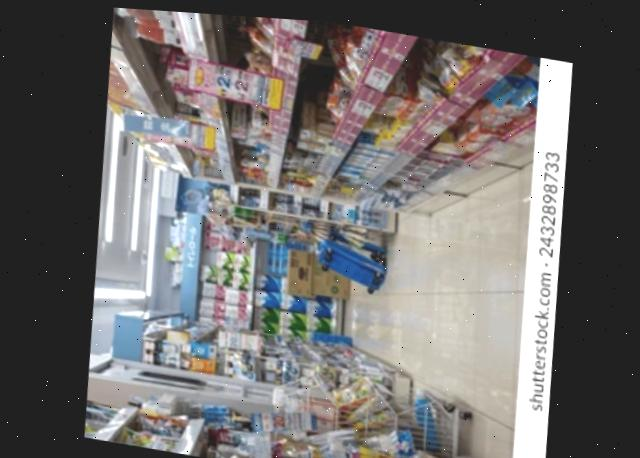background: (68, 4, 551, 458)
